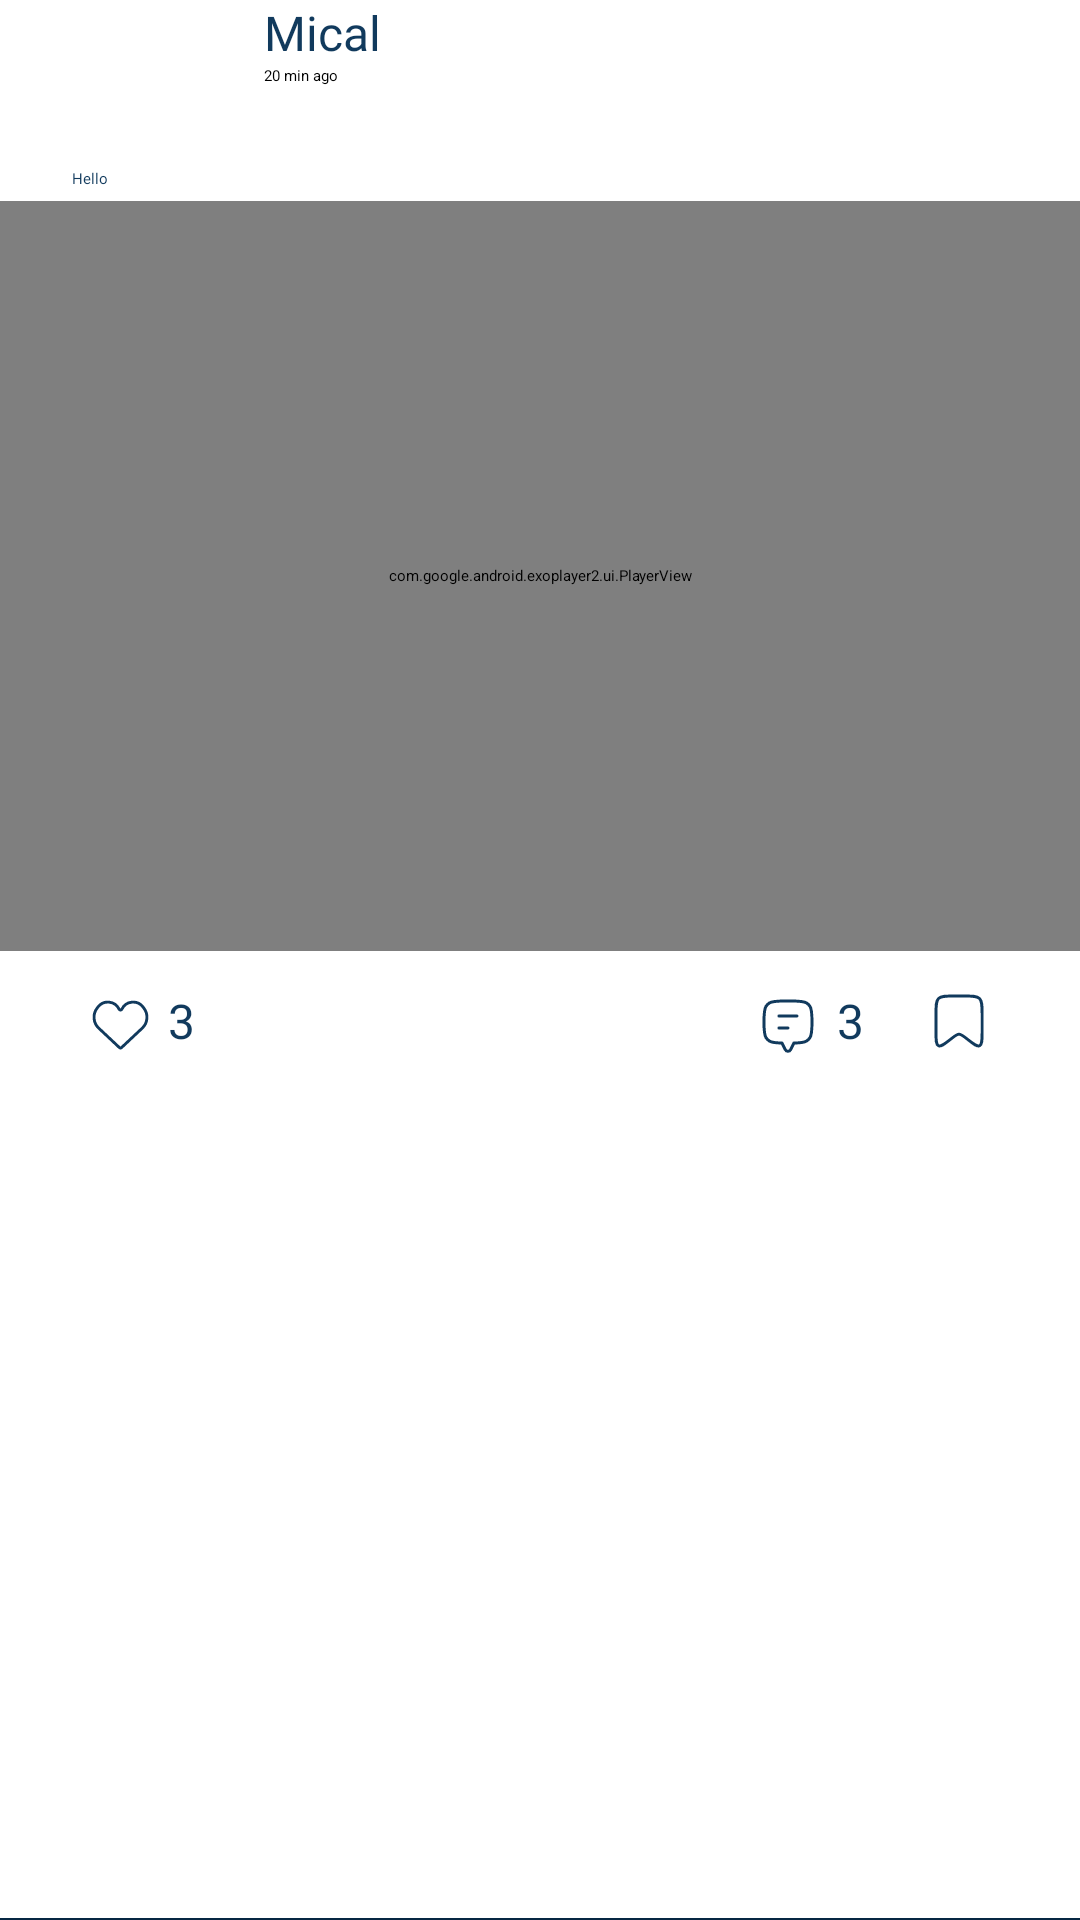

Screen size 1080px×1920px. Icon name, then its box in pixels as [x1, y1, x2, y2]:
comment dots: [762, 999, 814, 1053]
disable book mark: [934, 994, 984, 1048]
disable like: [92, 1000, 149, 1050]
